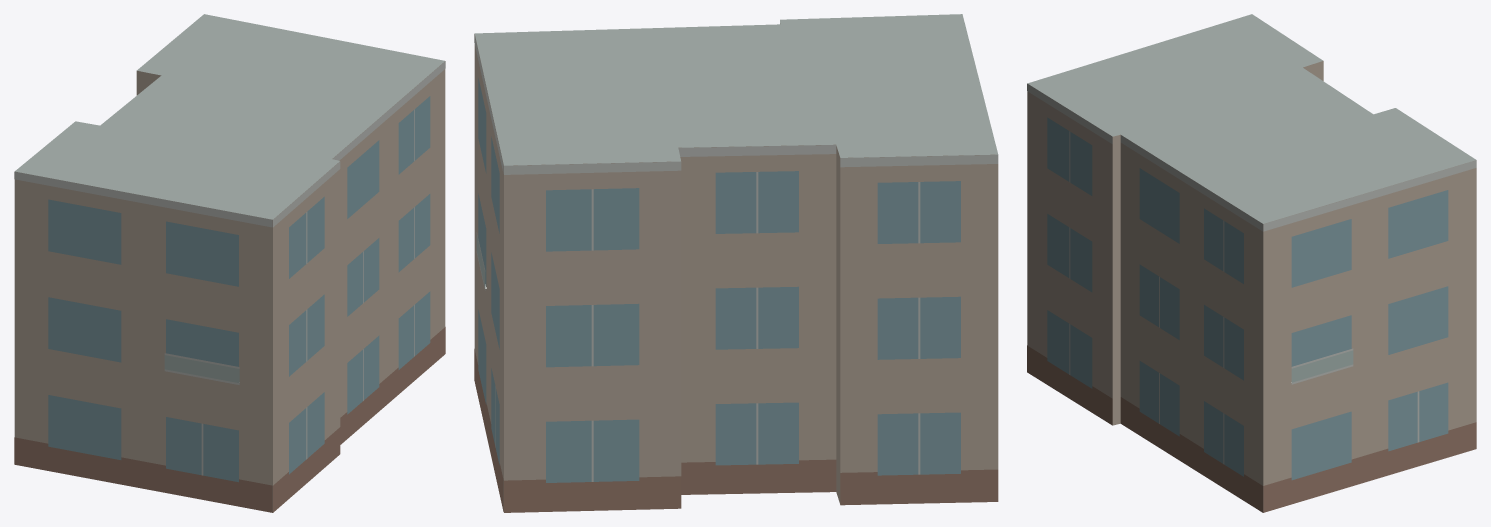
File: survey-upis-32681686.glb
3 renders of one model, left to right at view 1: azimuth 30°, elevation 25°; view 2: azimuth 150°, elevation 25°; view 3: azimuth 270°, elevation 25°, orthographic. The views are drawn at different scales.
Visible parts, largest first — view 1: survey-upis-32681686.tmp; view 2: survey-upis-32681686.tmp; view 3: survey-upis-32681686.tmp.
Boxes of the visible parts, x1,y1,x2,y2 form: survey-upis-32681686.tmp: (14,14,445,512); survey-upis-32681686.tmp: (474,14,998,512); survey-upis-32681686.tmp: (1027,14,1476,512).
Size of the model in its own units: 14.19 by 9.1 by 12.84.
